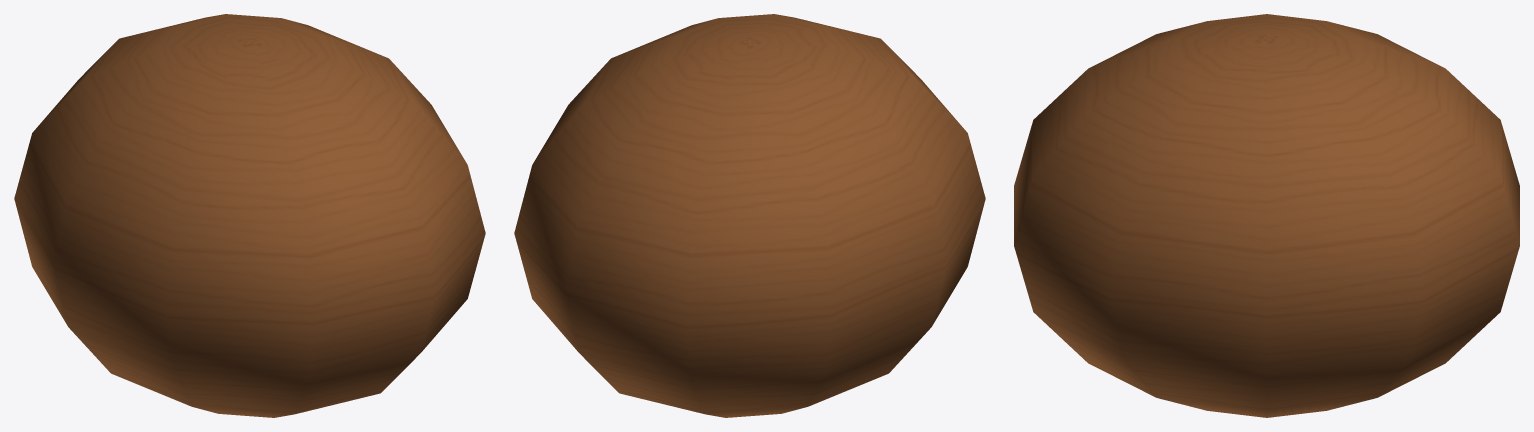
The model's file is fallen-coconut.glb.
The picture shows the model from 3 angles, left to right: view 1: azimuth 30°, elevation 25°; view 2: azimuth 150°, elevation 25°; view 3: azimuth 270°, elevation 25°; orthographic projection.
Bounding box in the file's own units: 0.54 × 0.459 × 0.5906.
1 material, 1 textured.
